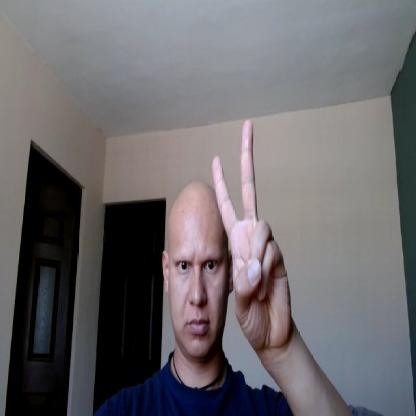V: (210, 118, 290, 348)
